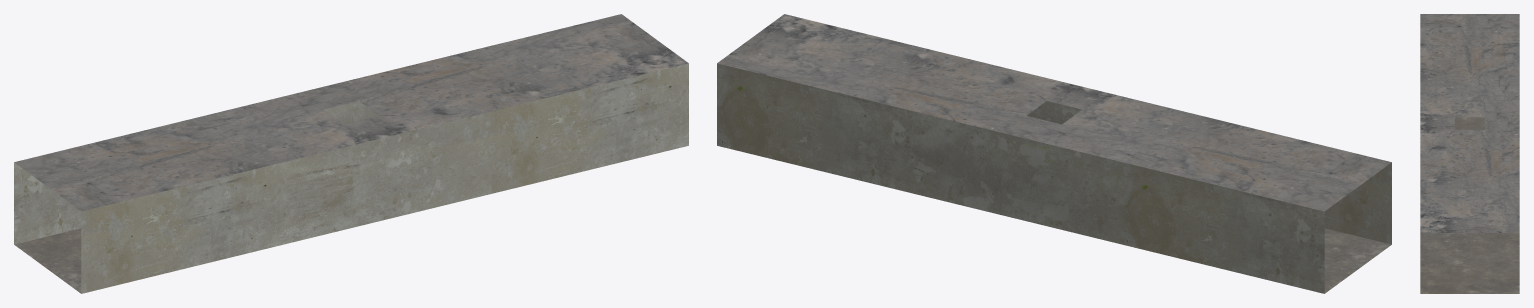
File: mur-1.fbx
3 renders of one model, left to right at view 1: azimuth 30°, elevation 25°; view 2: azimuth 150°, elevation 25°; view 3: azimuth 270°, elevation 25°, orthographic. The views are drawn at different scales.
Visible parts, largest first — view 1: sous-sol; view 2: sous-sol; view 3: sous-sol.
Part boxes in pixels (x1=…): sous-sol: x1=14, y1=14, x2=688, y2=293; sous-sol: x1=717, y1=14, x2=1391, y2=293; sous-sol: x1=1420, y1=14, x2=1519, y2=293.
Size of the model in its own units: 3203 by 415 by 615.
